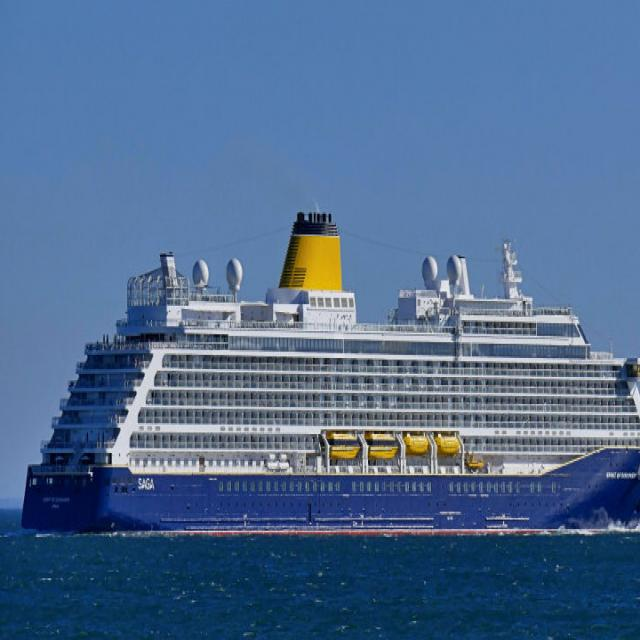cruises: (19, 202, 640, 548)
